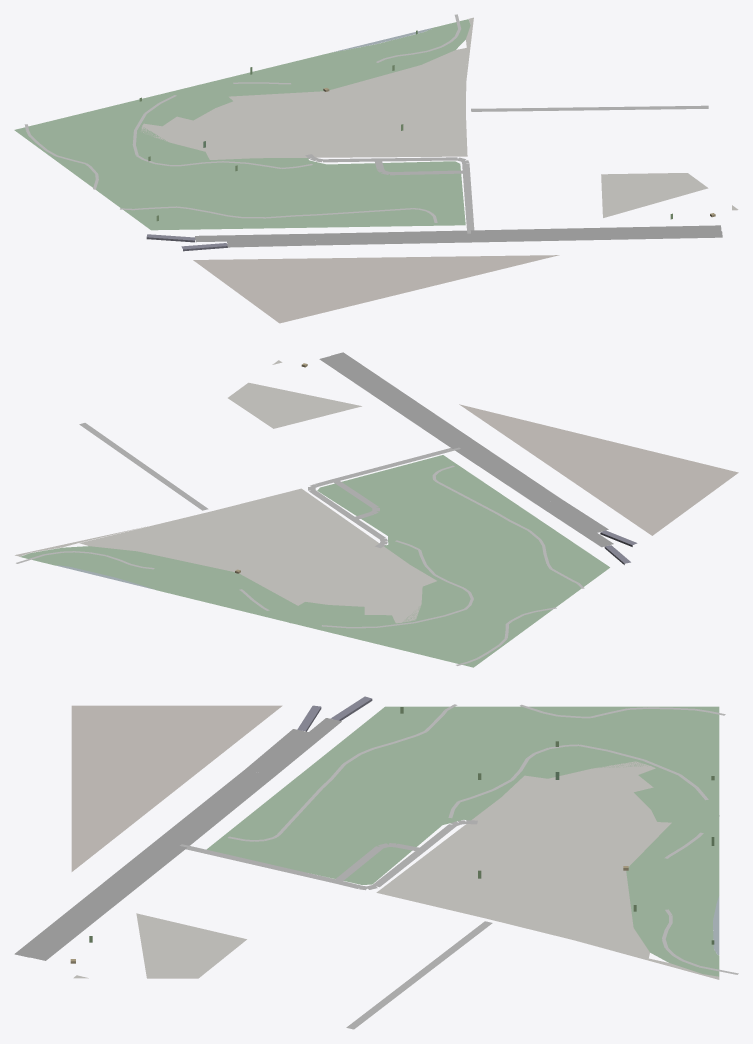
3 views of the same model, one above another, from view 1: azimuth 30°, elevation 25°; view 2: azimuth 150°, elevation 25°; view 3: azimuth 270°, elevation 25° (orthographic). The views are drawn at different scales.
Size of the model in its own units: 606 by 8.93 by 560.
